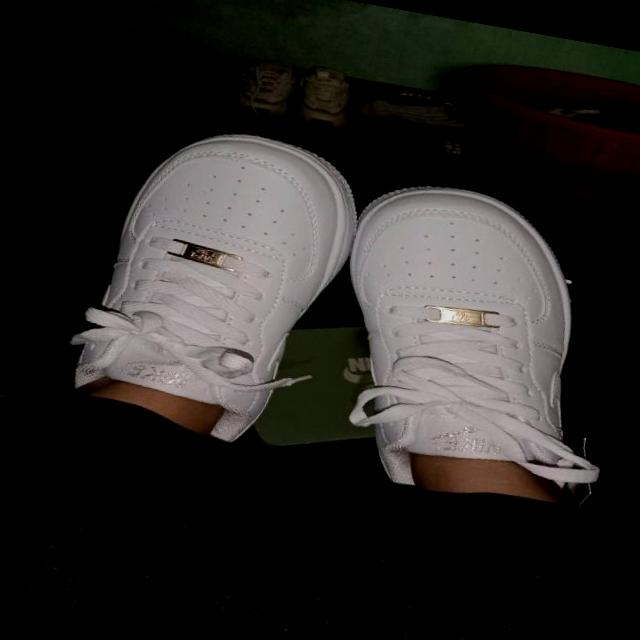nike_fake_airforce: (58, 105, 372, 462), (314, 166, 606, 511)
